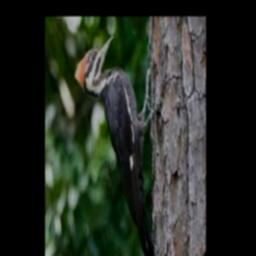Woodpecker: (74, 36, 156, 256)
